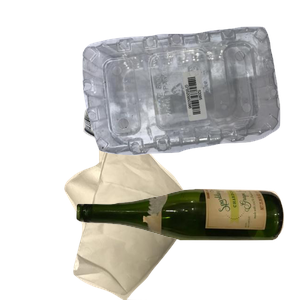glass: (74, 186, 300, 300)
metal: (81, 41, 234, 178)
plastic: (80, 24, 300, 172)
trash: (62, 120, 251, 300)
